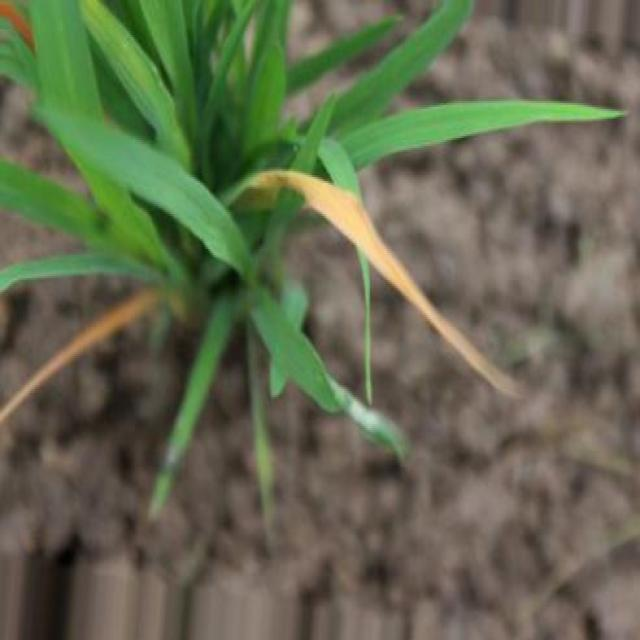Rice Tungro: (245, 169, 520, 396), (1, 290, 158, 424)
